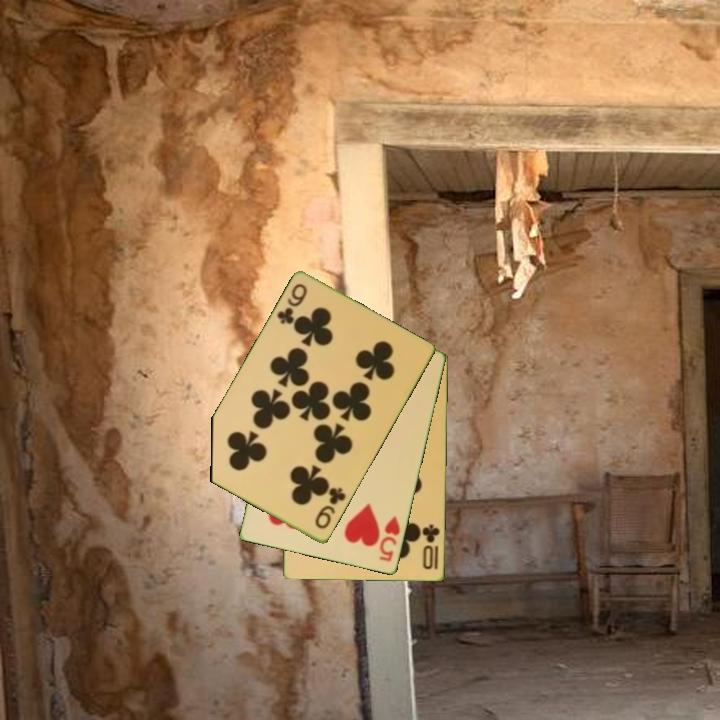10c: (419, 521, 443, 572)
5h: (376, 512, 403, 565)
9c: (311, 484, 349, 532), (273, 280, 310, 328)
